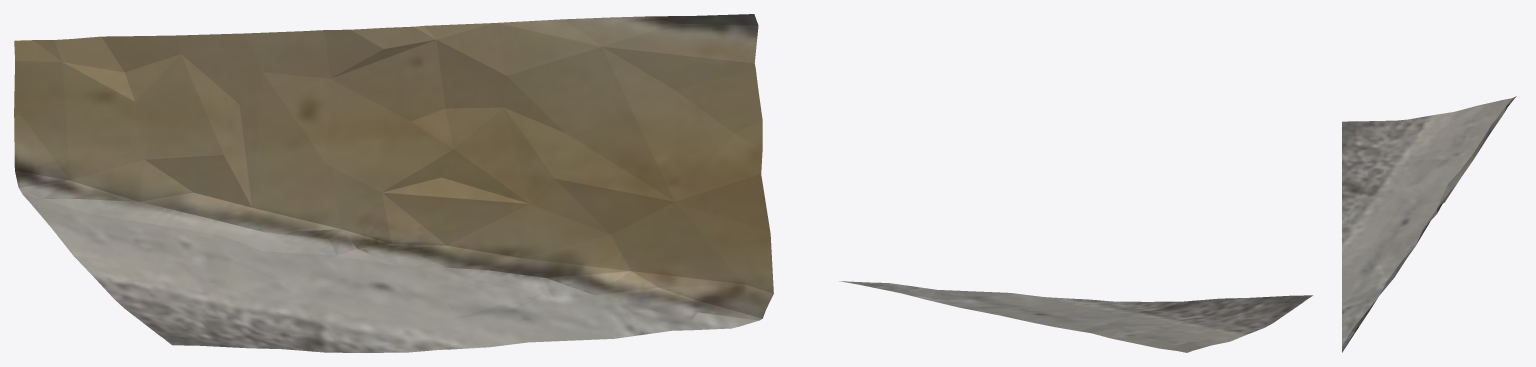
The picture shows the model from 3 angles, left to right: view 1: azimuth 30°, elevation 25°; view 2: azimuth 150°, elevation 25°; view 3: azimuth 270°, elevation 25°; orthographic projection. The views are drawn at different scales.
Size of the model in its own units: 1.1 by 0.5388 by 0.4988.
1 material, 1 textured.
